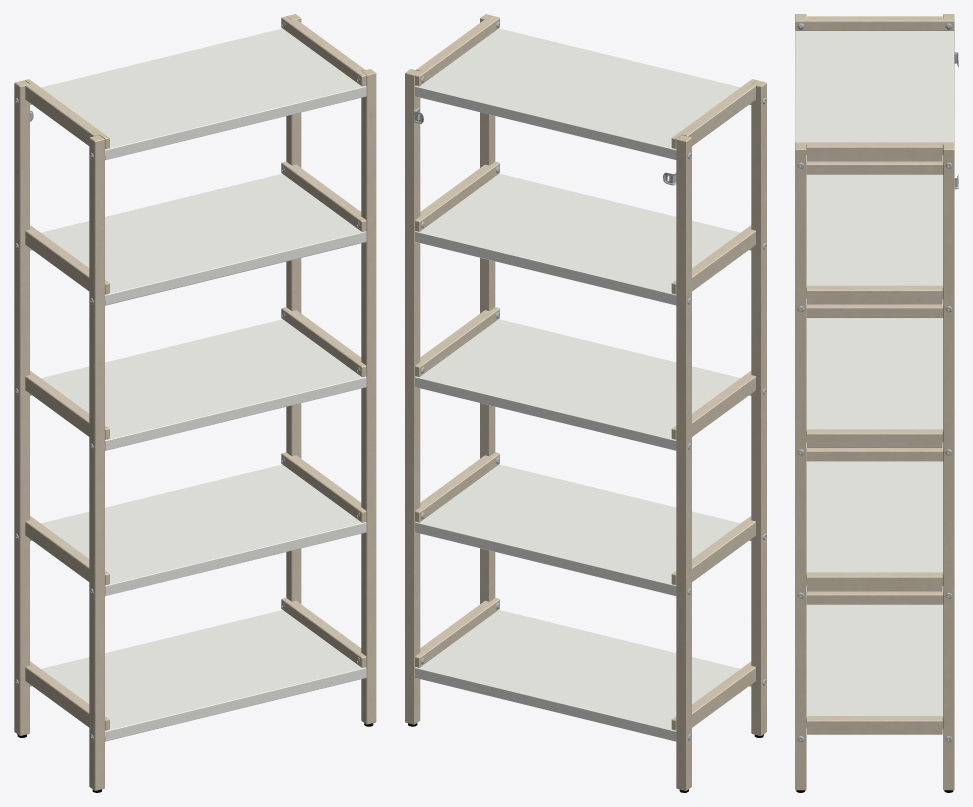
Rendered from EKENABBEN_80487813.glb.
3 views of the same model, side by side, from view 1: azimuth 30°, elevation 25°; view 2: azimuth 150°, elevation 25°; view 3: azimuth 270°, elevation 25° (orthographic).
Parts seen in each view (by area): view 1: model; view 2: model; view 3: model.
Part boxes in pixels (bbox=[...]): model: bbox=[14, 14, 376, 792]; model: bbox=[405, 14, 766, 792]; model: bbox=[795, 14, 958, 792].
Bounding box in the file's own units: 0.6991 × 1.54 × 0.3537.
1 material, 1 textured.
